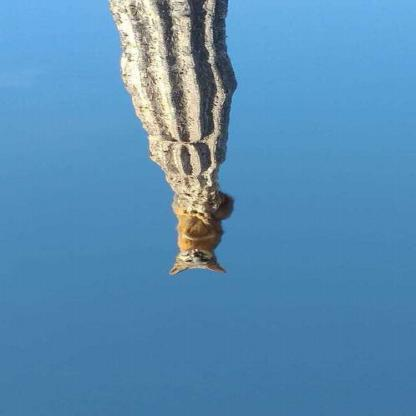zorro: (159, 187, 246, 282)
